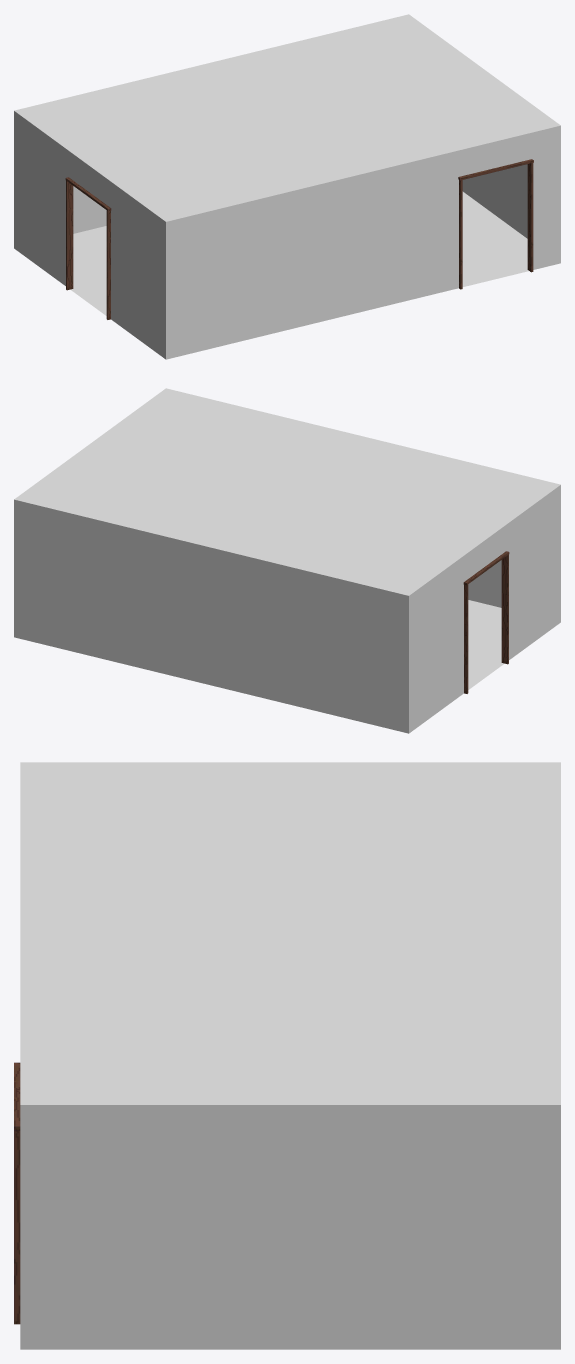
The model's file is 2x3room_bedroom.fbx.
The picture shows the model from 3 angles, top to bottom: view 1: azimuth 30°, elevation 25°; view 2: azimuth 150°, elevation 25°; view 3: azimuth 270°, elevation 25°; orthographic projection. The views are drawn at different scales.
Parts seen in each view (by area): view 1: 2x3 Room "Bedroom"; view 2: 2x3 Room "Bedroom"; view 3: 2x3 Room "Bedroom".
Part boxes in pixels (left/top/right/bottom): 2x3 Room "Bedroom": left=14, top=14, right=560, bottom=359; 2x3 Room "Bedroom": left=14, top=388, right=560, bottom=733; 2x3 Room "Bedroom": left=14, top=762, right=560, bottom=1349.
Bounding box in the file's own units: 756 × 250 × 506.
3 materials, 1 textured.
